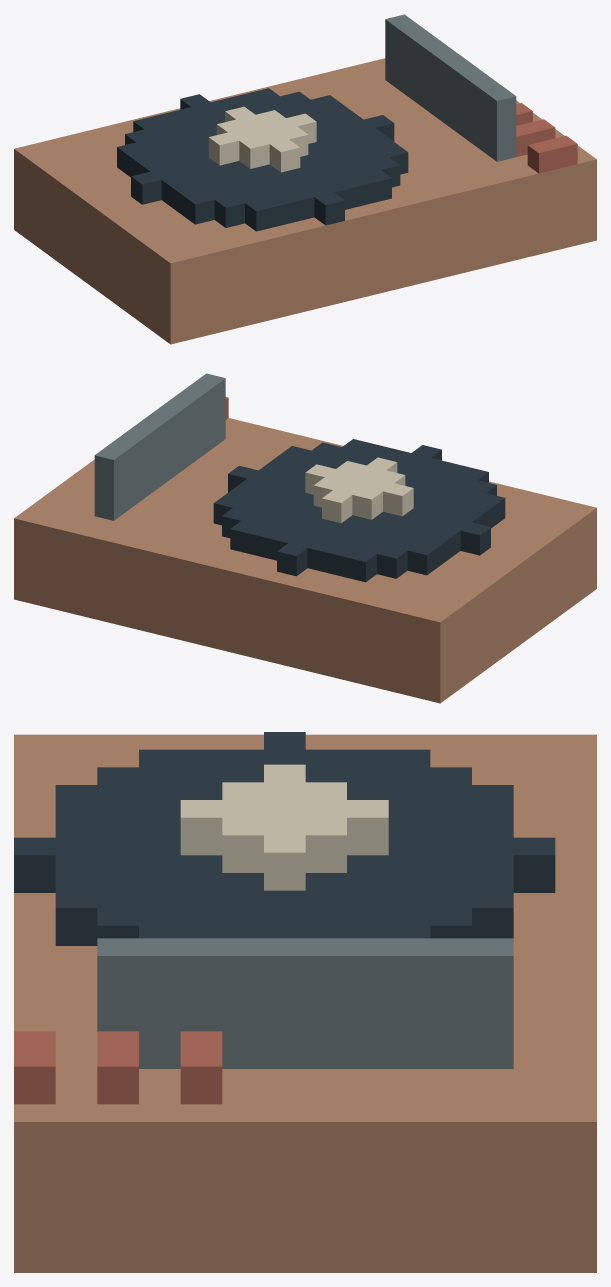
File: music-07.glb
3 views of the same model, one above another, from view 1: azimuth 30°, elevation 25°; view 2: azimuth 150°, elevation 25°; view 3: azimuth 270°, elevation 25° (orthographic). The views are drawn at different scales.
Parts seen in each view (by area): view 1: Vinyl turntable; view 2: Vinyl turntable; view 3: Vinyl turntable.
Boxes of the visible parts, x1=… form: Vinyl turntable: x1=14, y1=14, x2=596, y2=344; Vinyl turntable: x1=14, y1=373, x2=596, y2=703; Vinyl turntable: x1=14, y1=732, x2=596, y2=1272.
Size of the model in its own units: 1.76 by 0.56 by 1.12.
